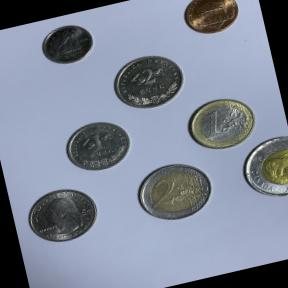coin: (128, 154, 219, 230), (103, 44, 196, 117), (18, 179, 106, 250), (179, 87, 266, 157), (234, 133, 288, 208), (35, 18, 99, 70), (174, 0, 249, 41)
